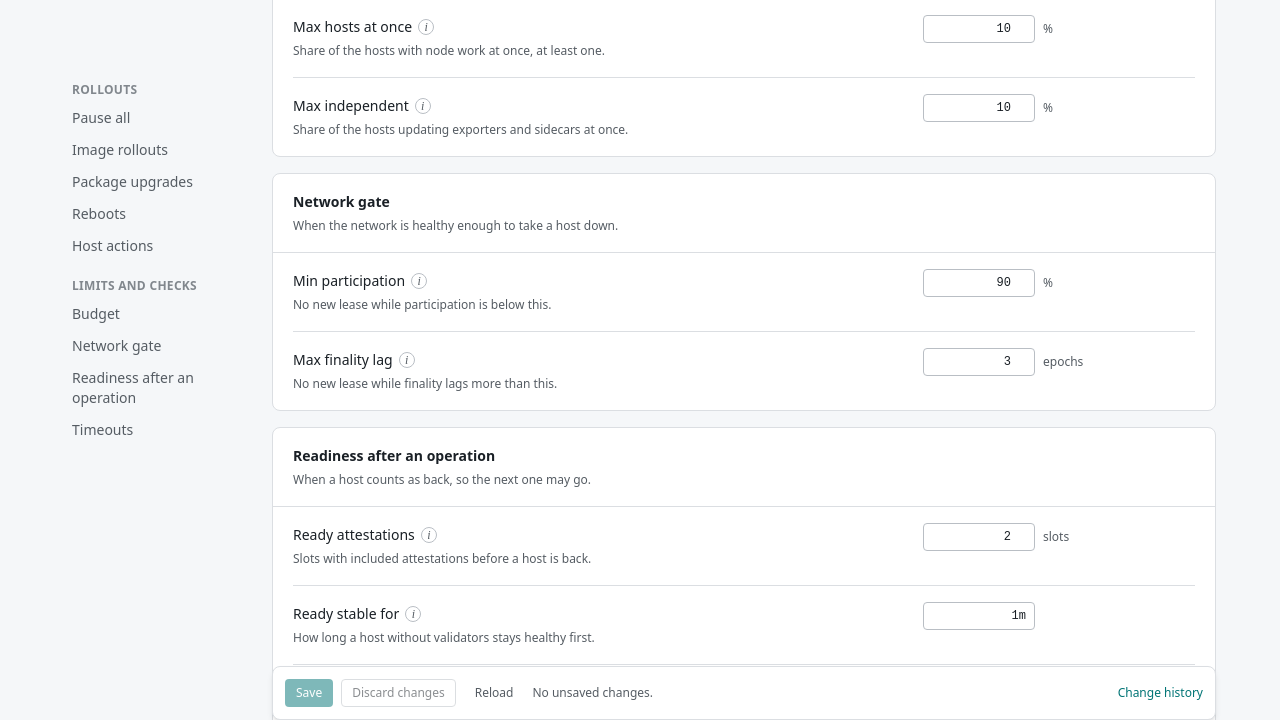
Test: SettingsTab › keeps the long description behind the info icon
(page scrolled)
Click the button named "About Max finality lag" at {"x": 407, "y": 360}, box [399,352,415,368]
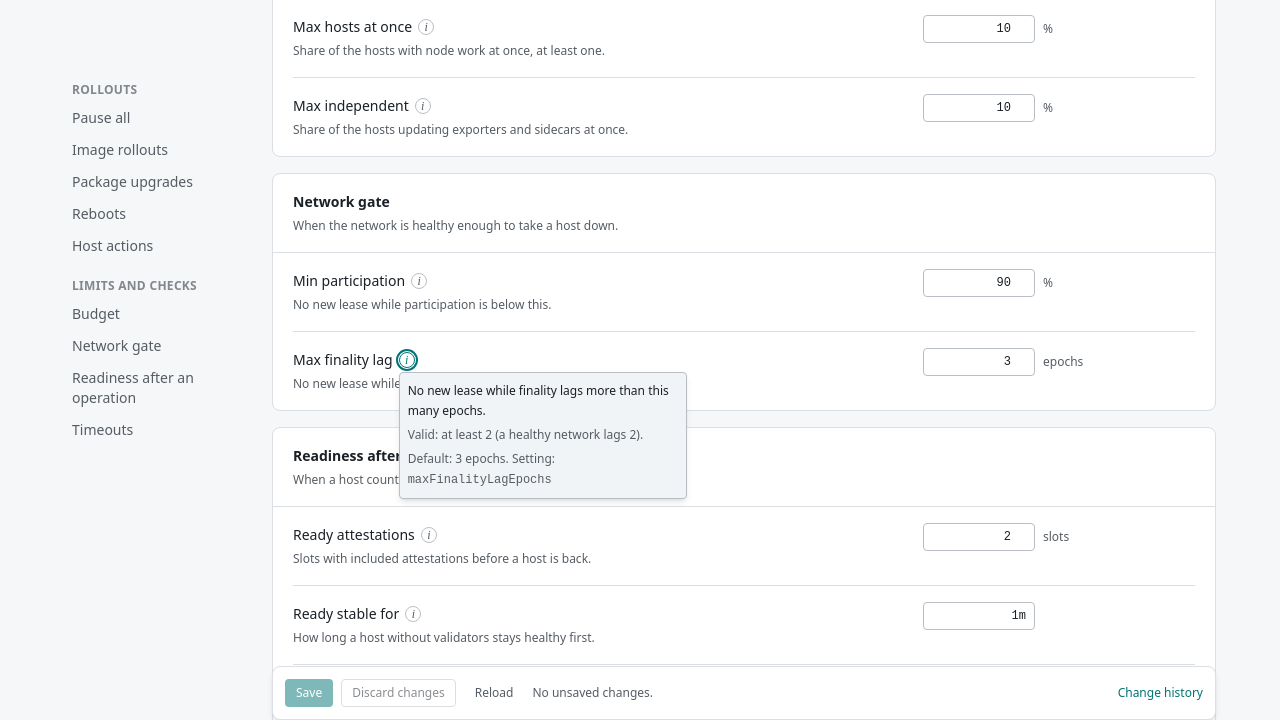
expect the tooltip shows "No new lease while finality lags more than this many epochs.": met, box [408,382,669,419]
expect the tooltip shows "Valid: at least 2": met, box [399,372,687,499]
expect the tooltip shows "Default: 3 epochs": met, box [399,372,687,499]
Press Escape
(page scrolled)
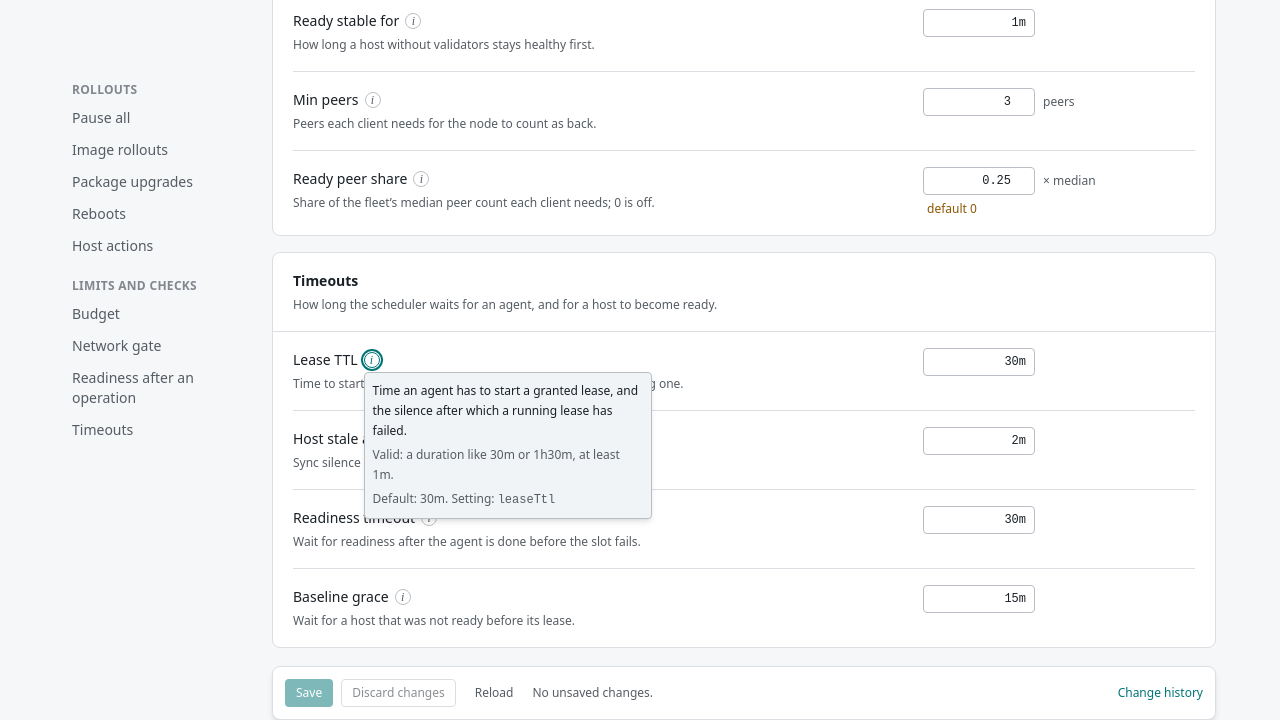
expect the tooltip shows "Time an agent has to start a granted lease": met, box [372,382,638,439]
